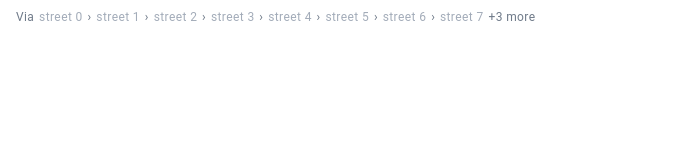
RouteRoads › shows the first roads and the rest on demand
Expected: the button "street 10" is not shown
What coordinates should you click on to do the following:
click the button "+3 more"
I would click on:
 (512, 18)
Its box is [488,8,535,28].
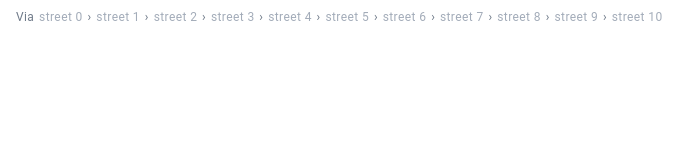
Expected: the button "street 10" is shown, [612,8,663,28]
